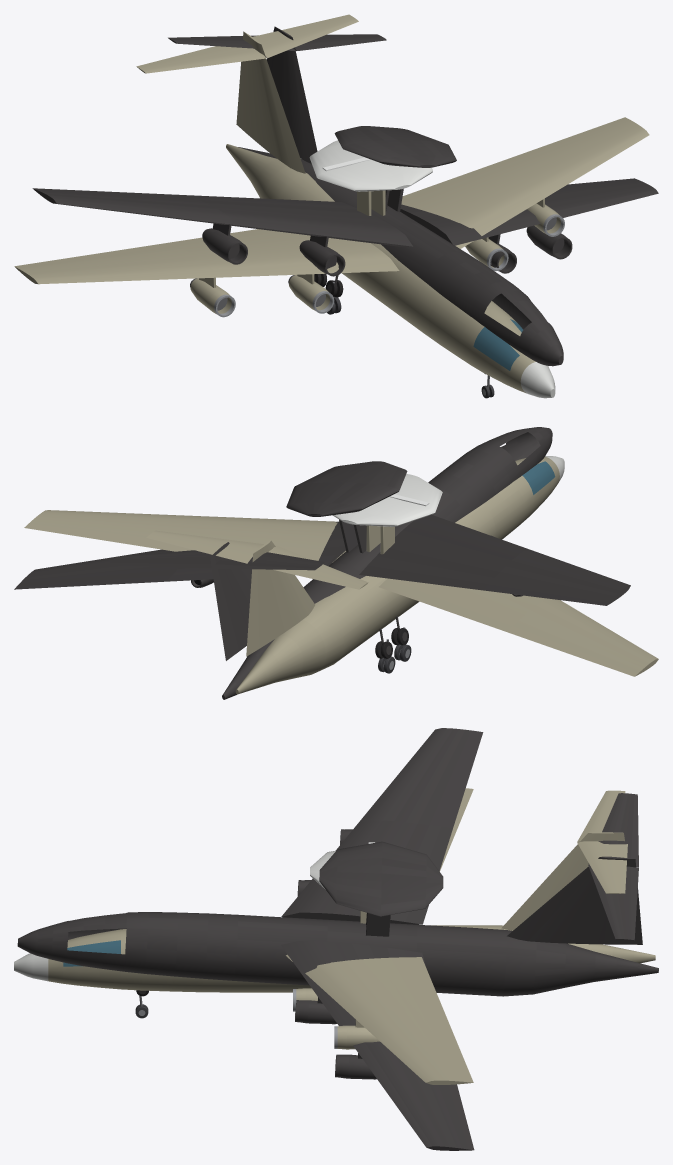
The model's file is aewc__a_50u.glb.
3 views of the same model, one above another, from view 1: azimuth 30°, elevation 25°; view 2: azimuth 150°, elevation 25°; view 3: azimuth 270°, elevation 25° (orthographic).
Visible parts, largest first — view 1: Fuselage_Mesh, Wreck, Radar_Mesh; view 2: Fuselage_Mesh, Wreck, Radar_Mesh; view 3: Wreck, Fuselage_Mesh.
Part boxes in pixels (x1,y1,x2,y2): Fuselage_Mesh: [14, 14, 649, 398]; Wreck: [32, 26, 658, 374]; Radar_Mesh: [309, 140, 432, 191]; Fuselage_Mesh: [24, 456, 658, 694]; Wreck: [14, 427, 630, 699]; Radar_Mesh: [333, 474, 442, 526]; Wreck: [17, 728, 658, 1150]; Fuselage_Mesh: [14, 788, 655, 1084].
Size of what is drawn, in the model's own units: 51.34 by 15.29 by 46.84.
